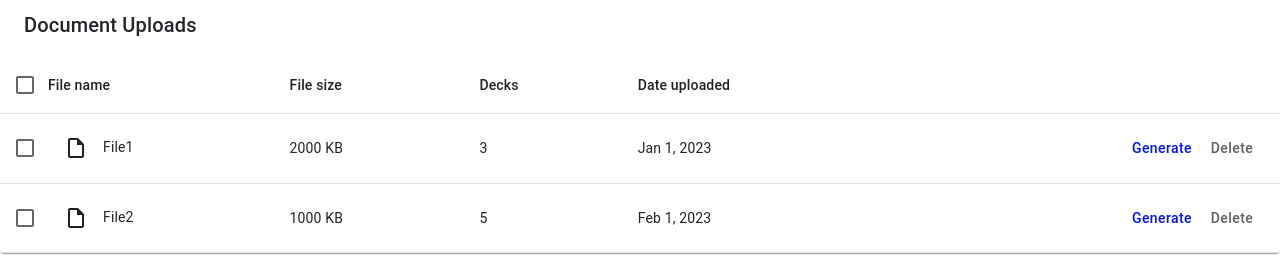
Test case: EnhancedTable Component › selects all rows when select all checkbox is clicked
Click the checkbox named "select all files": (25, 85) [13,73,37,97]
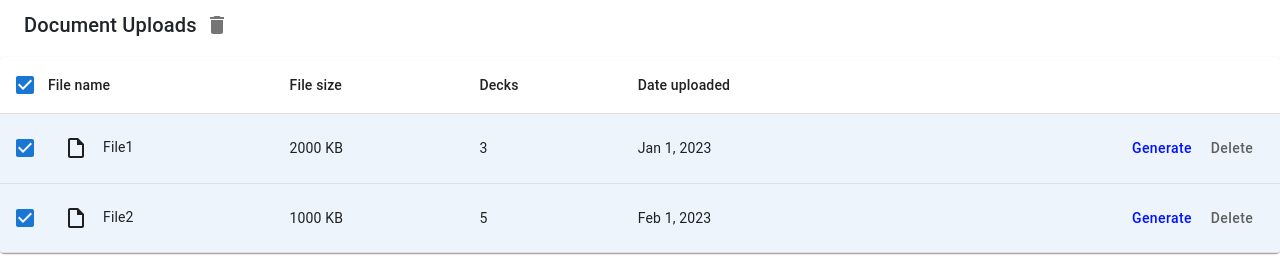
Result: the checkbox next to "File1" is checked at [13,136,37,160]
Result: the checkbox next to "File2" is checked at [13,206,37,230]
Note: Deselect all
Click the checkbox named "select all files": (25, 85) [13,73,37,97]
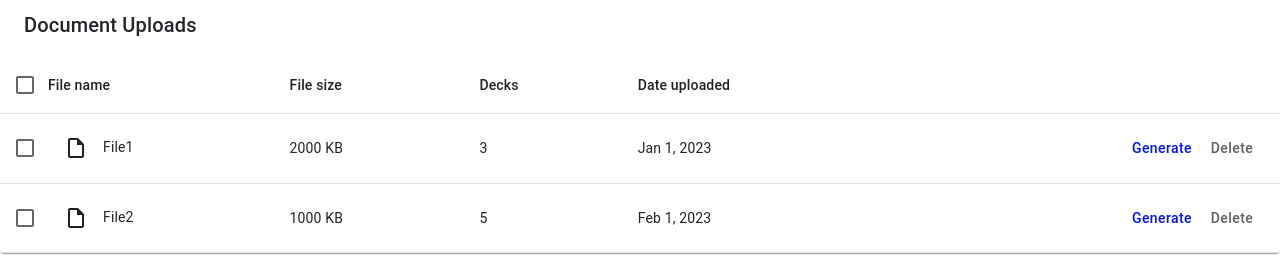
Result: the checkbox next to "File1" is not checked at [13,136,37,160]
Result: the checkbox next to "File2" is not checked at [13,206,37,230]
